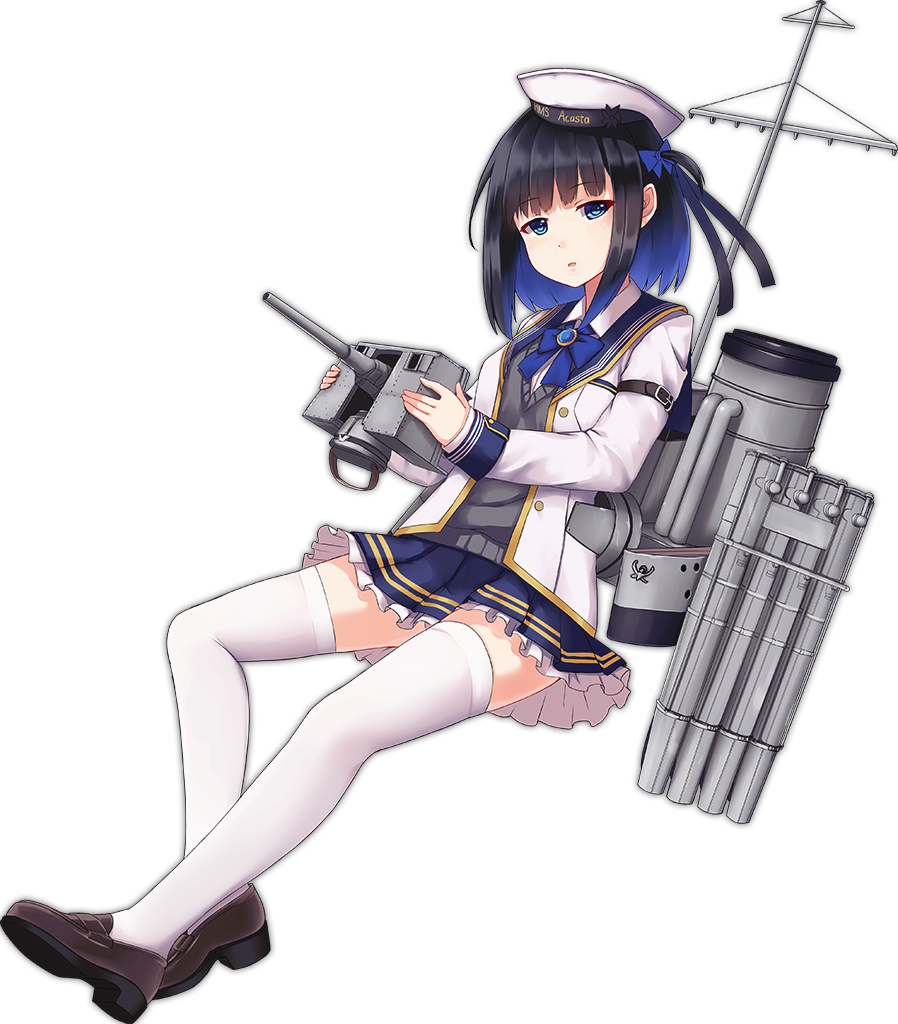person: (131, 72, 743, 849)
